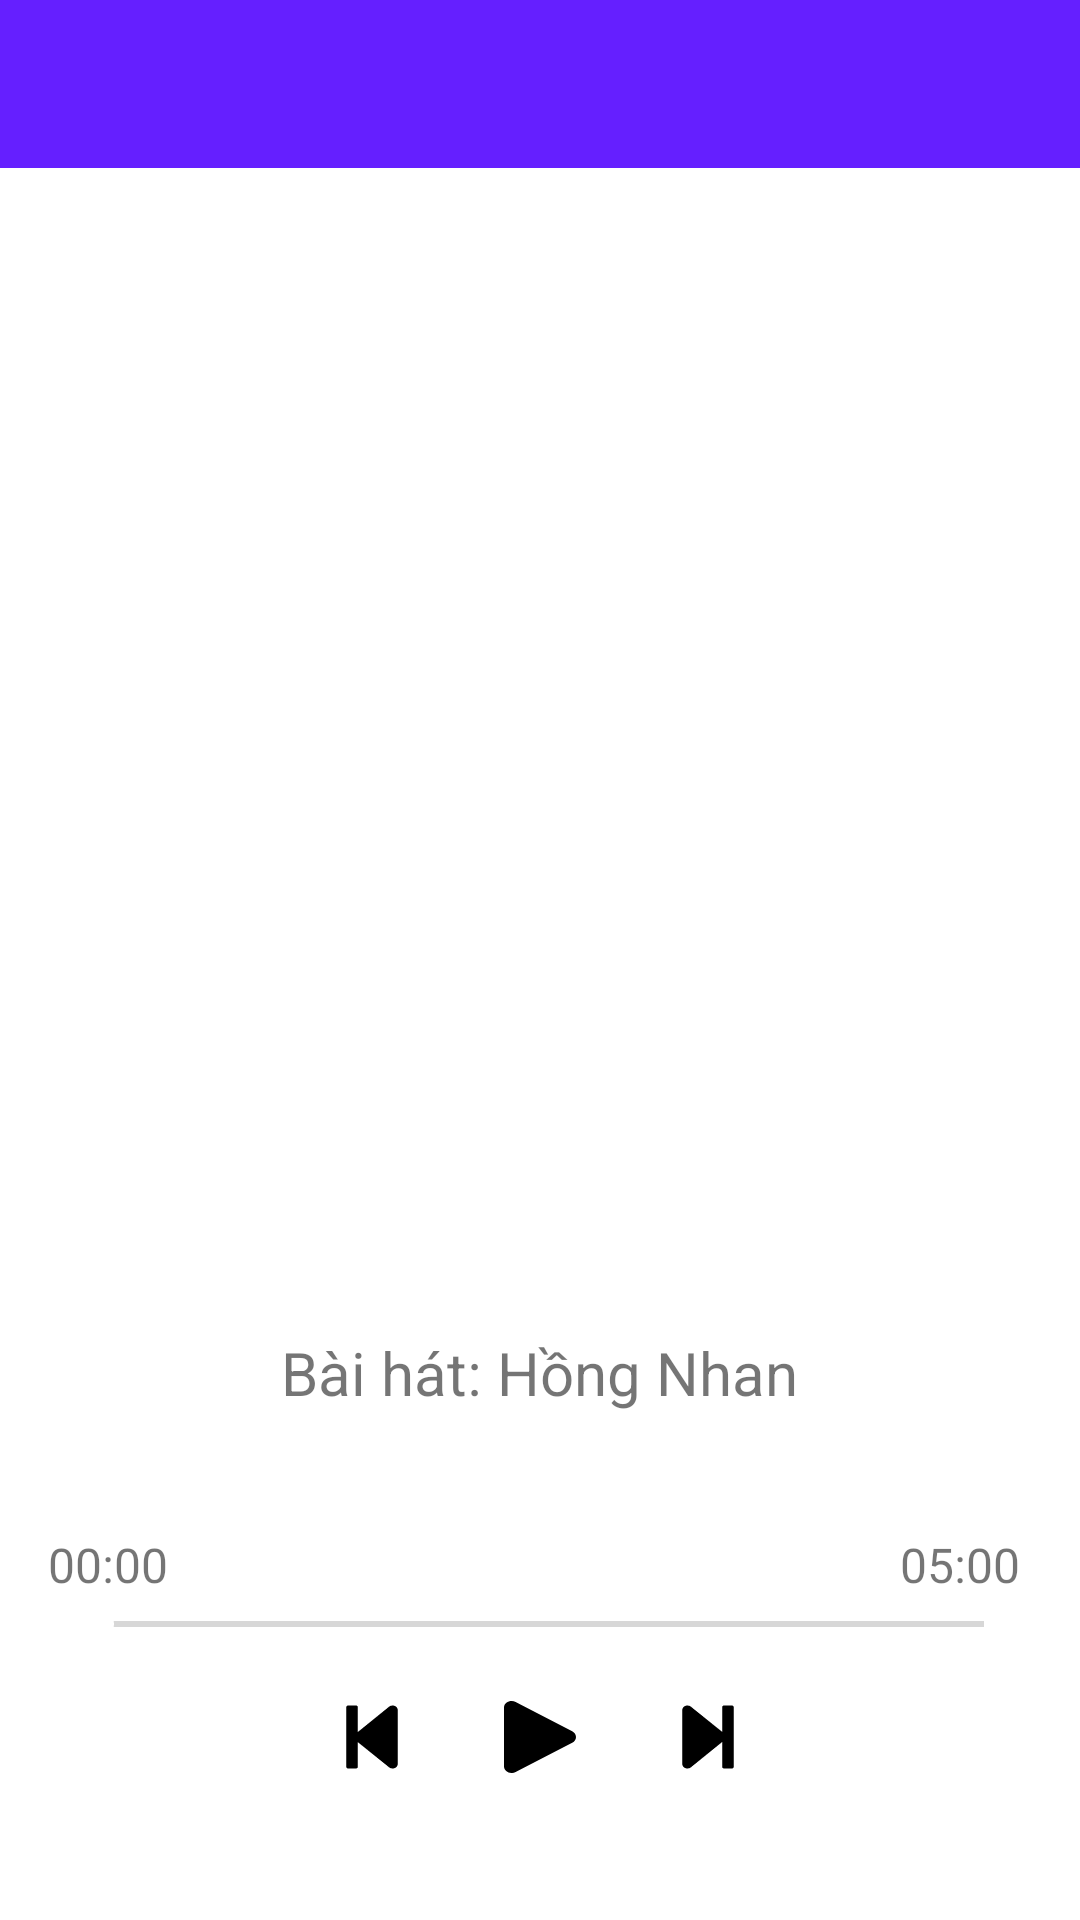

Locate icon controls on the screen. Image size 1080x1920, boxes as box=[x1, y1, x2, y2].
next: box=[682, 1705, 734, 1769]
play: box=[504, 1701, 576, 1773]
prev: box=[346, 1705, 398, 1769]
